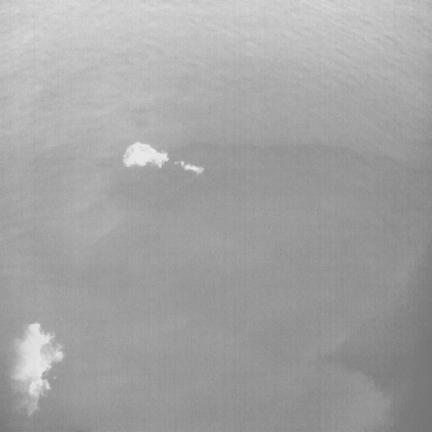flukeprints: (123, 143, 168, 167), (175, 161, 204, 174)
